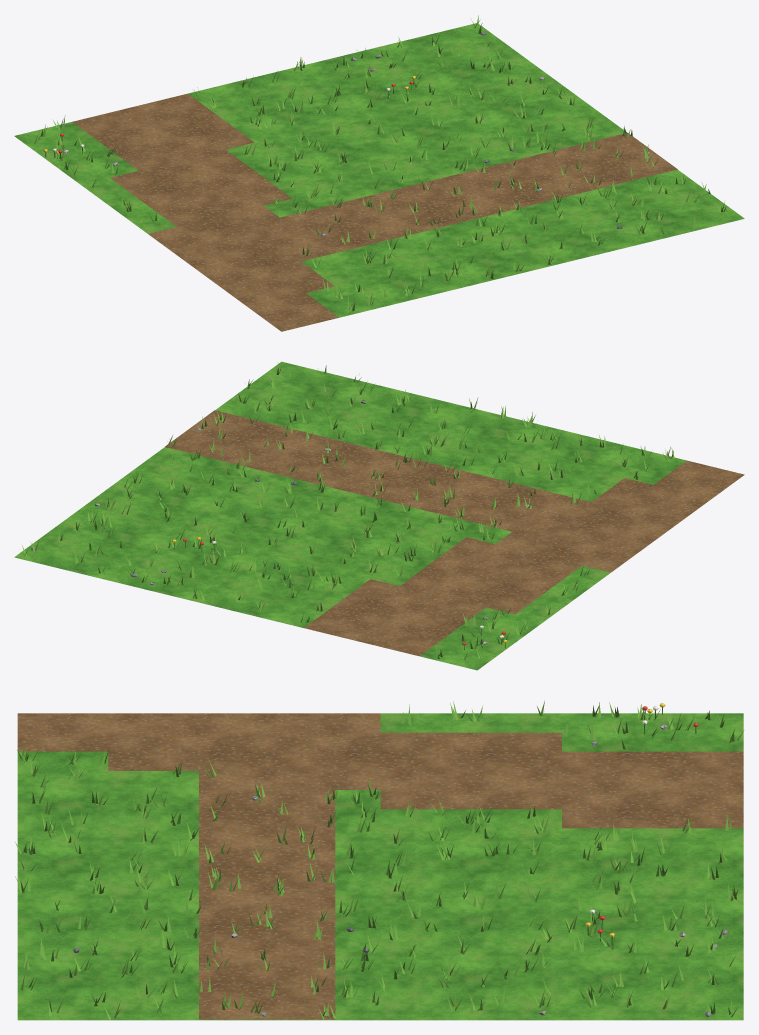
The model's file is chunk_6_15.glb.
3 renders of one model, top to bottom at view 1: azimuth 30°, elevation 25°; view 2: azimuth 150°, elevation 25°; view 3: azimuth 270°, elevation 25°, orthographic. The views are drawn at different scales.
Parts seen in each view (by area): view 1: chunk_6_15; view 2: chunk_6_15; view 3: chunk_6_15.
Part boxes in pixels (x1,y1,x2,y2): chunk_6_15: (14,15,744,331); chunk_6_15: (14,361,744,670); chunk_6_15: (15,701,743,1020).
Size of the model in its own units: 16.02 by 0.4599 by 16.11.
10 materials, 6 textured.
